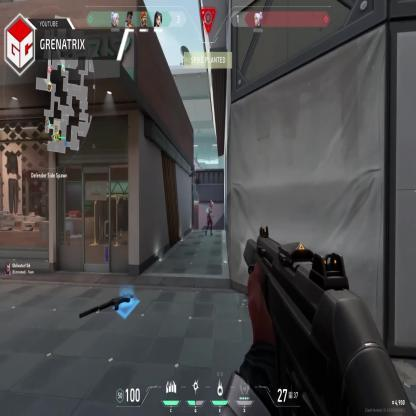enemy: (204, 198, 214, 233)
enemy_head: (210, 199, 214, 208)
